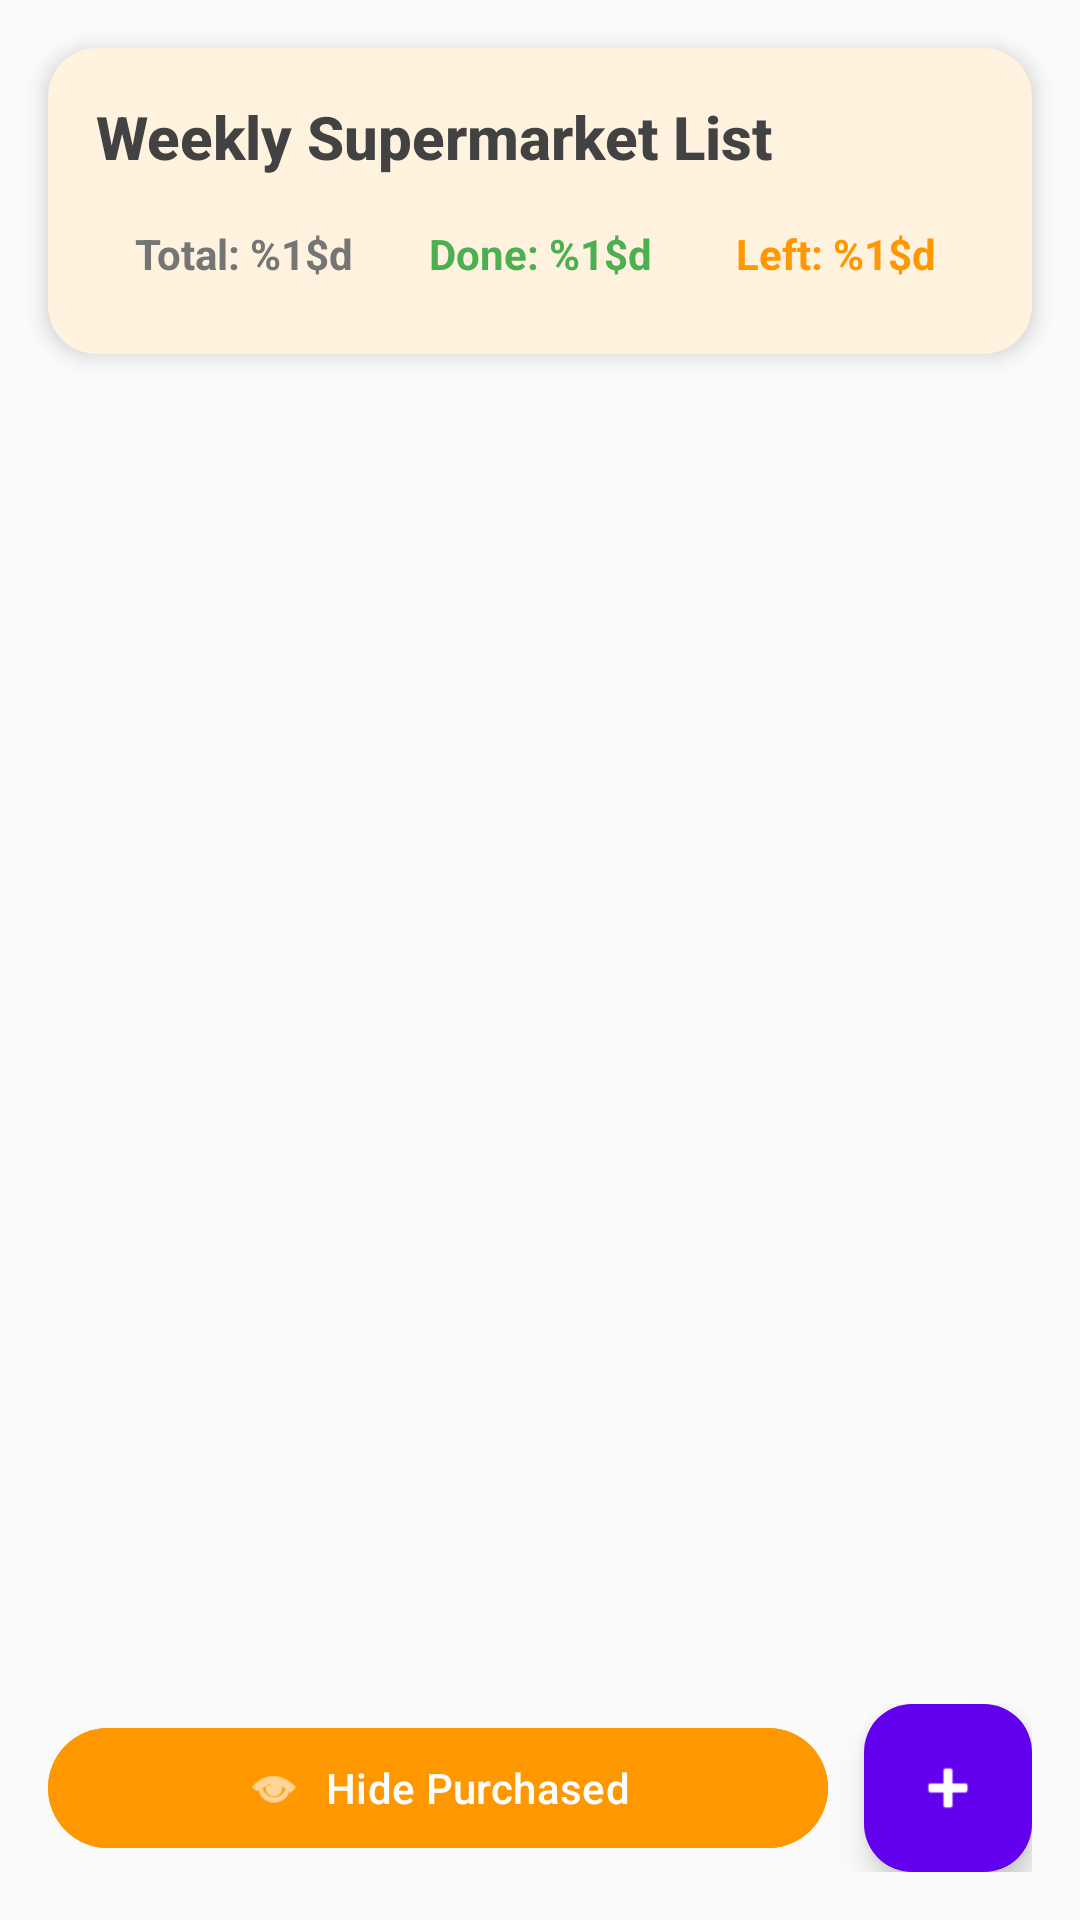

Icon bounding boxes for this 1080×1920 phone screenshot, format box(x1, y1, x2, y2):
+ Add Item: box(864, 1704, 1032, 1872)
